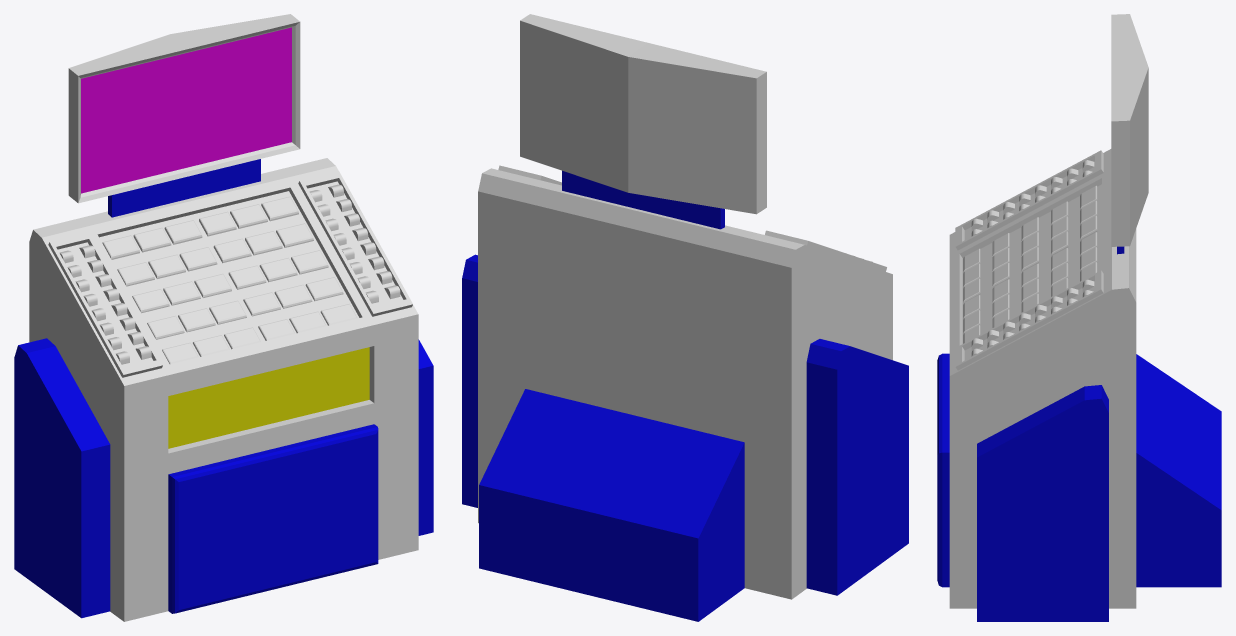
The model's file is Console.fbx.
3 views of the same model, side by side, from view 1: azimuth 30°, elevation 25°; view 2: azimuth 150°, elevation 25°; view 3: azimuth 270°, elevation 25° (orthographic). The views are drawn at different scales.
Parts seen in each view (by area): view 1: Console_base, Console_keys_1, Console_keys_2; view 2: Console_base; view 3: Console_base, Console_keys_1, Console_keys_2.
Part boxes in pixels (<box>): Console_base: <box>14,14,433,621</box>; Console_keys_1: <box>102,196,357,364</box>; Console_keys_2: <box>59,184,400,364</box>; Console_base: <box>462,14,908,621</box>; Console_base: <box>937,14,1221,621</box>; Console_keys_1: <box>963,185,1097,343</box>; Console_keys_2: <box>971,160,1094,356</box>.
Bounding box in the file's own units: 76.89 × 108 × 141.
